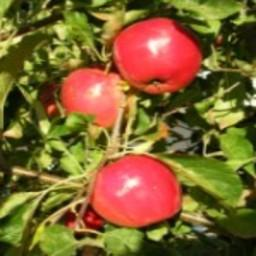apple: (111, 17, 204, 94), (88, 154, 183, 227), (61, 66, 131, 125)
